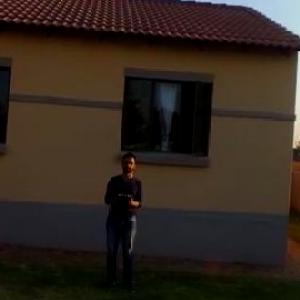follow: (96, 146, 144, 296)
